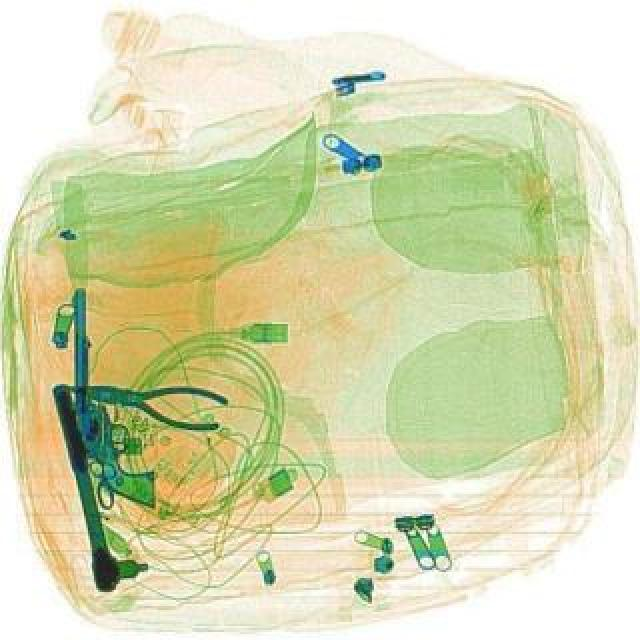gun: (90, 406, 152, 510), (70, 288, 104, 456)
wrench: (68, 364, 228, 436)
